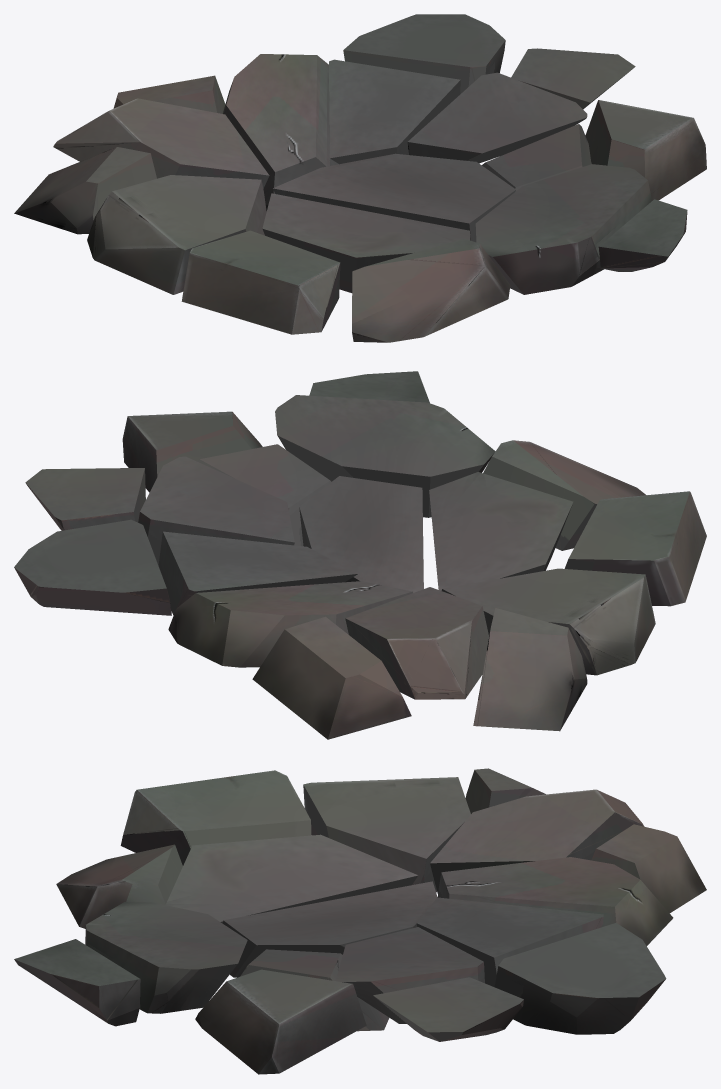
Rendered from Rocks_formation.fbx.
3 views of the same model, one above another, from view 1: azimuth 30°, elevation 25°; view 2: azimuth 150°, elevation 25°; view 3: azimuth 270°, elevation 25° (orthographic). The views are drawn at different scales.
Parts seen in each view (by area): view 1: Cube_cell.062; view 2: Cube_cell.062; view 3: Cube_cell.062.
Boxes of the visible parts, bbox=[...] form: Cube_cell.062: bbox=[14, 14, 706, 342]; Cube_cell.062: bbox=[14, 371, 706, 739]; Cube_cell.062: bbox=[14, 768, 706, 1074].
Bounding box in the file's own units: 7.88 × 1.18 × 7.95.
